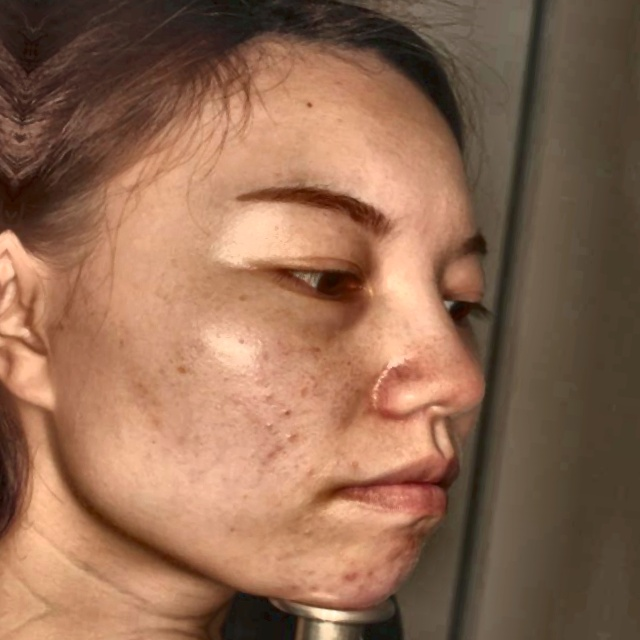comedone: (385, 536, 423, 567), (334, 562, 366, 587)
